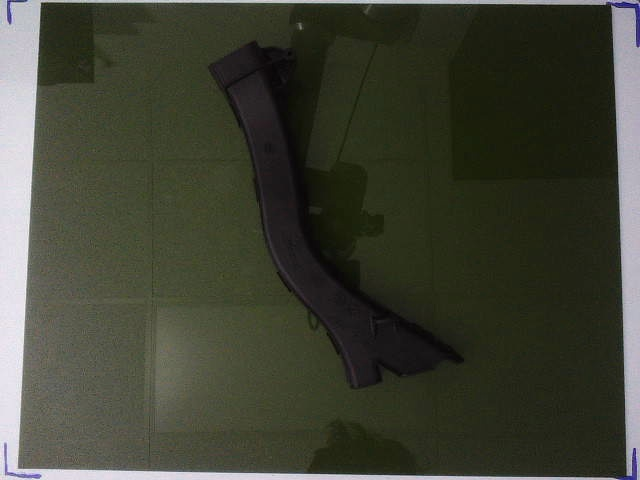887_A-Top: (208, 39, 465, 389)
